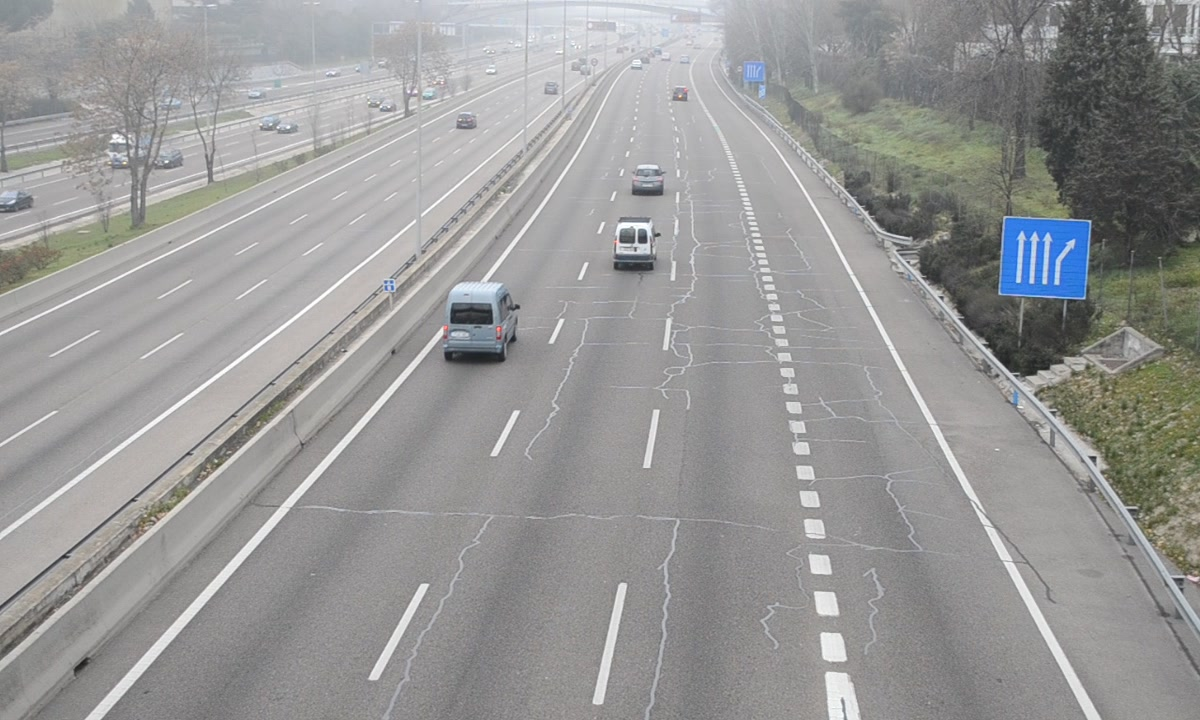car: (631, 165, 666, 195)
van: (444, 282, 517, 352), (613, 219, 656, 268)
